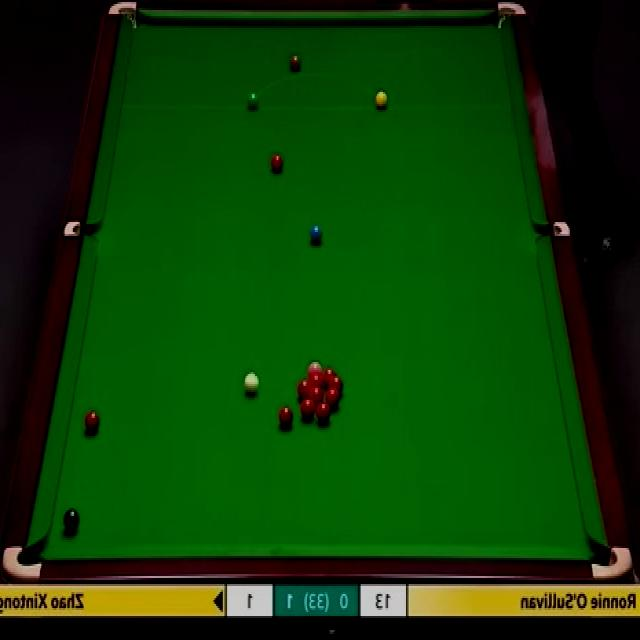black-ball: (64, 507, 80, 533)
blue-ball: (309, 222, 324, 245)
brown-ball: (288, 54, 301, 74)
green-ball: (245, 91, 261, 112)
pink-ball: (308, 361, 322, 372)
red-ball: (301, 396, 317, 421), (268, 154, 285, 176), (85, 412, 100, 433), (279, 407, 293, 429), (321, 370, 335, 390), (317, 397, 330, 418), (324, 391, 338, 409), (298, 379, 311, 398), (330, 378, 342, 397), (309, 386, 323, 401), (310, 371, 322, 387)
white-ball: (242, 372, 260, 398)
yellow-ball: (375, 90, 388, 110)
